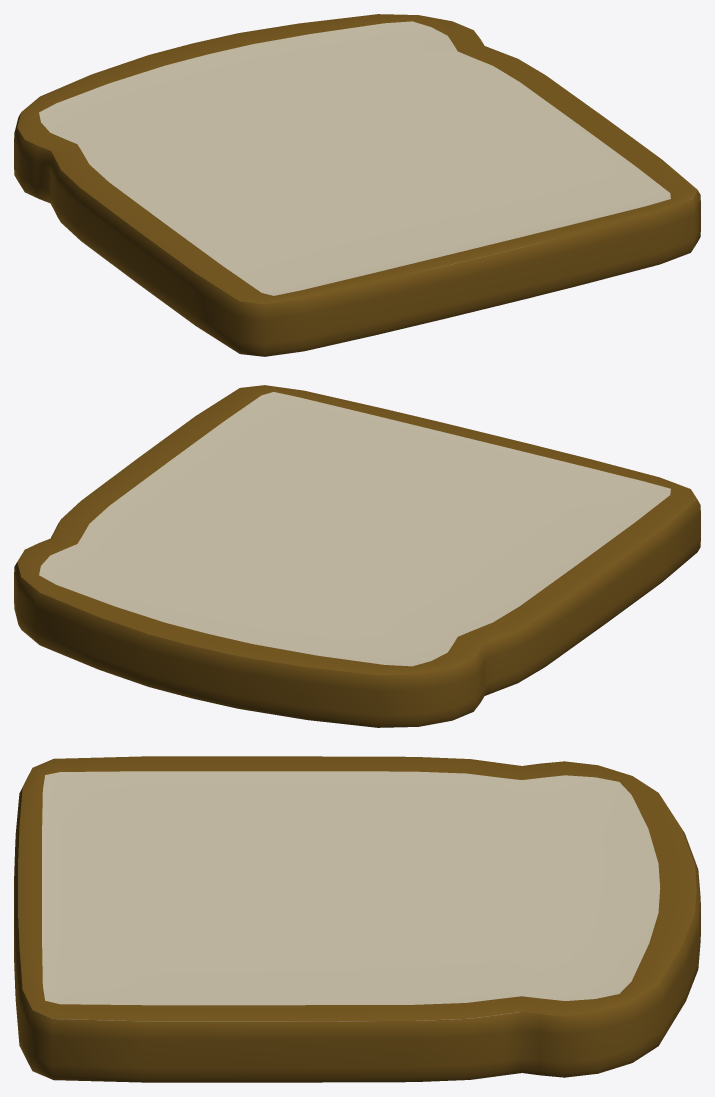
Rendered from bread.fbx.
3 renders of one model, top to bottom at view 1: azimuth 30°, elevation 25°; view 2: azimuth 150°, elevation 25°; view 3: azimuth 270°, elevation 25°, orthographic. The views are drawn at different scales.
Parts seen in each view (by area): view 1: bread_export; view 2: bread_export; view 3: bread_export.
Part boxes in pixels (x1=…): bread_export: x1=14, y1=14, x2=700, y2=356; bread_export: x1=14, y1=385, x2=700, y2=727; bread_export: x1=14, y1=756, x2=700, y2=1082.
Bounding box in the file's own units: 109 × 12.14 × 118.
Materials: 1 (1 with a texture image).
